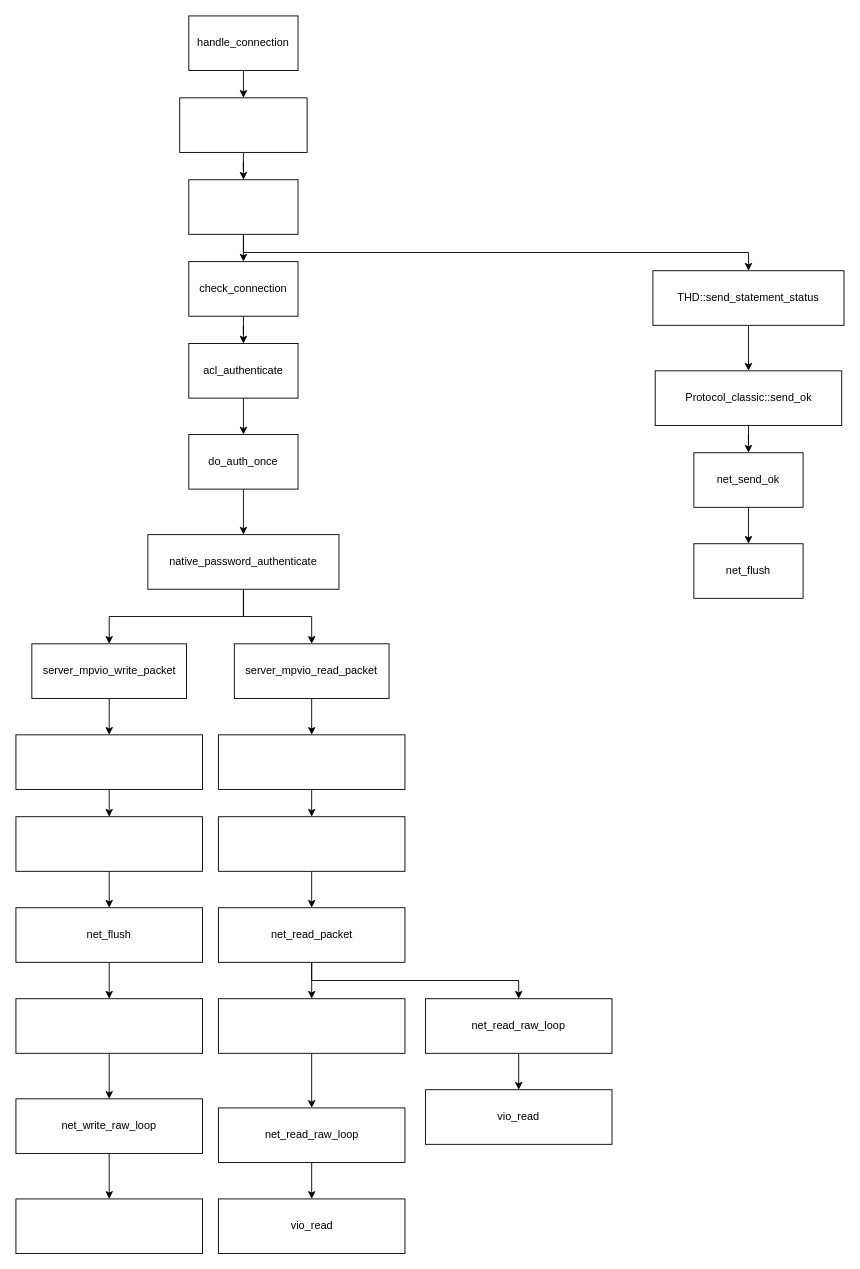
Some shapes in this 860 by 1269 pixel diagram are drawn without their labels. Each missing label, with the box of its shape:
login_connection: (188, 179, 298, 234)
my_net_read: (217, 816, 405, 871)
net_read_packet_header: (217, 998, 405, 1053)
net_write_packet: (15, 998, 202, 1053)
Protocol_classic::flush_net: (15, 816, 202, 871)
Protocol_classic::read_packet: (217, 734, 405, 789)
send_server_handshake_packet: (15, 734, 202, 789)
thd_prepare_connection: (179, 97, 307, 152)
vio_write: (15, 1198, 202, 1254)
